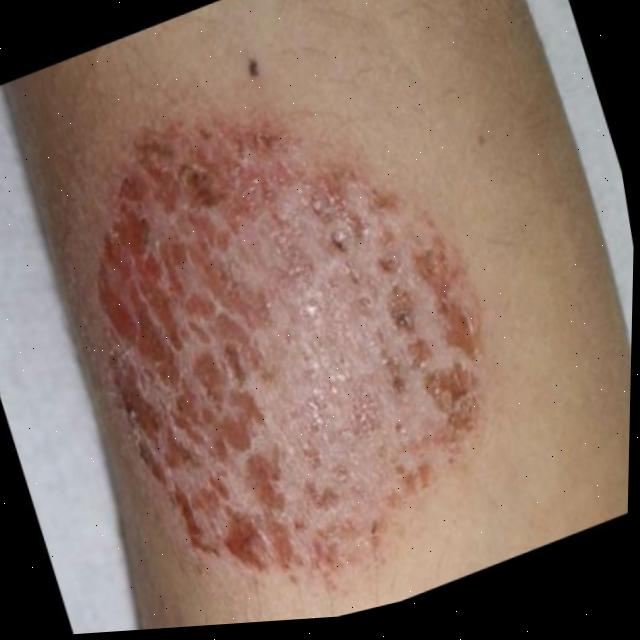Eczema: (69, 83, 480, 589)
